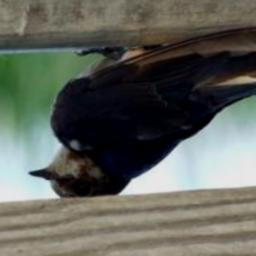Swallow: (28, 25, 256, 200)
